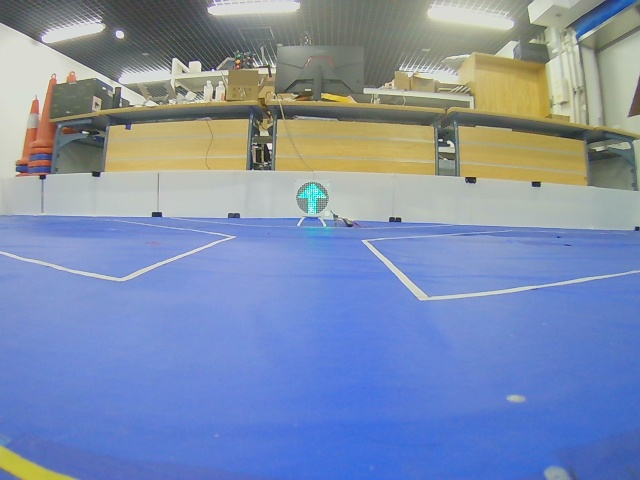straight_green: (297, 182, 329, 215)
